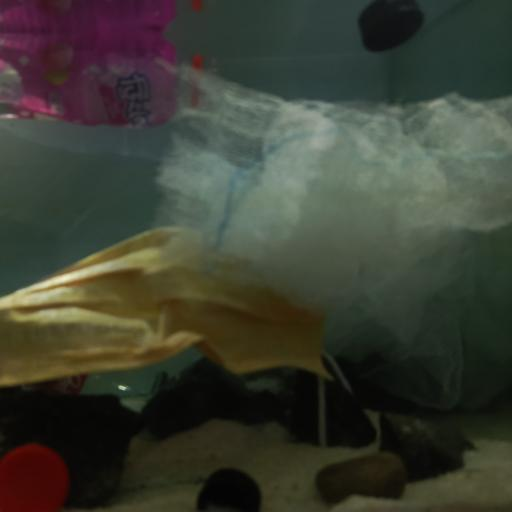bottle_cap: (0, 444, 69, 512), (358, 0, 425, 52), (195, 467, 263, 512)
mask: (0, 224, 349, 409)
net: (155, 56, 512, 416)
plastic_bottle: (0, 45, 216, 131), (18, 362, 179, 404)
